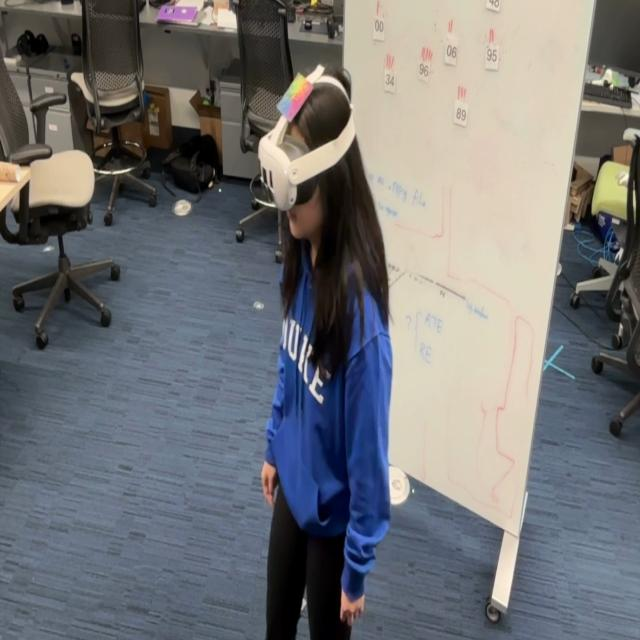Headset: (257, 65, 355, 212)
Marker: (274, 63, 317, 126)
